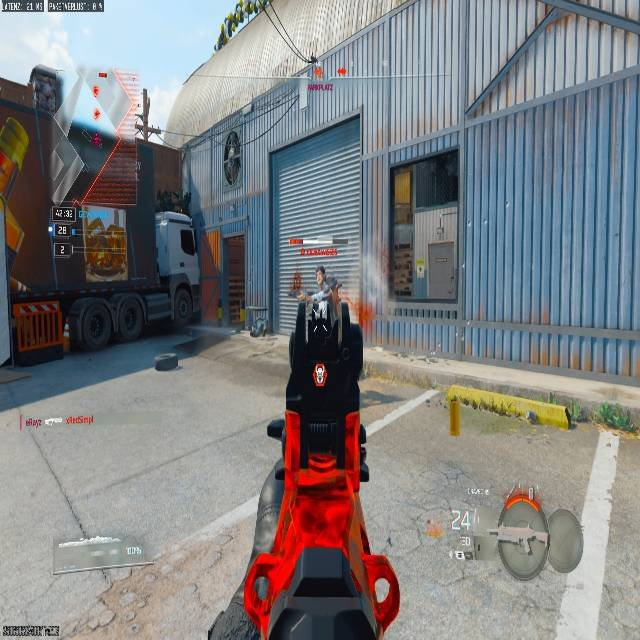head: (315, 266, 326, 286)
player: (307, 270, 342, 318), (315, 263, 331, 293)
